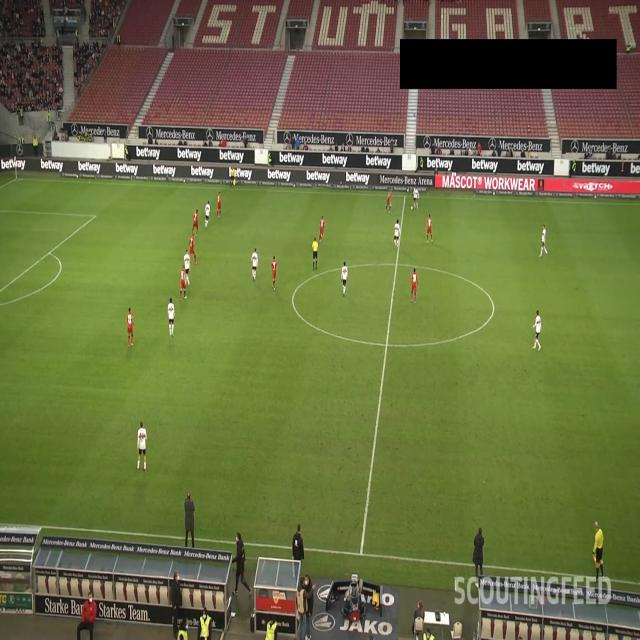ball: (411, 205, 414, 211)
